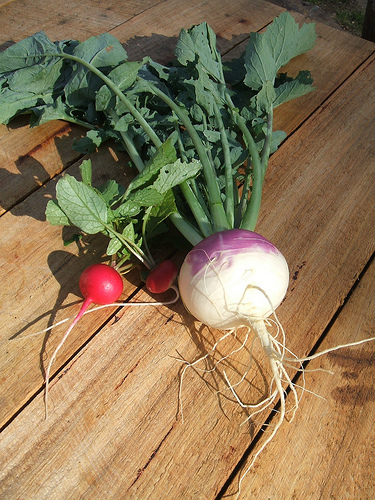turnip: (0, 8, 373, 498)
